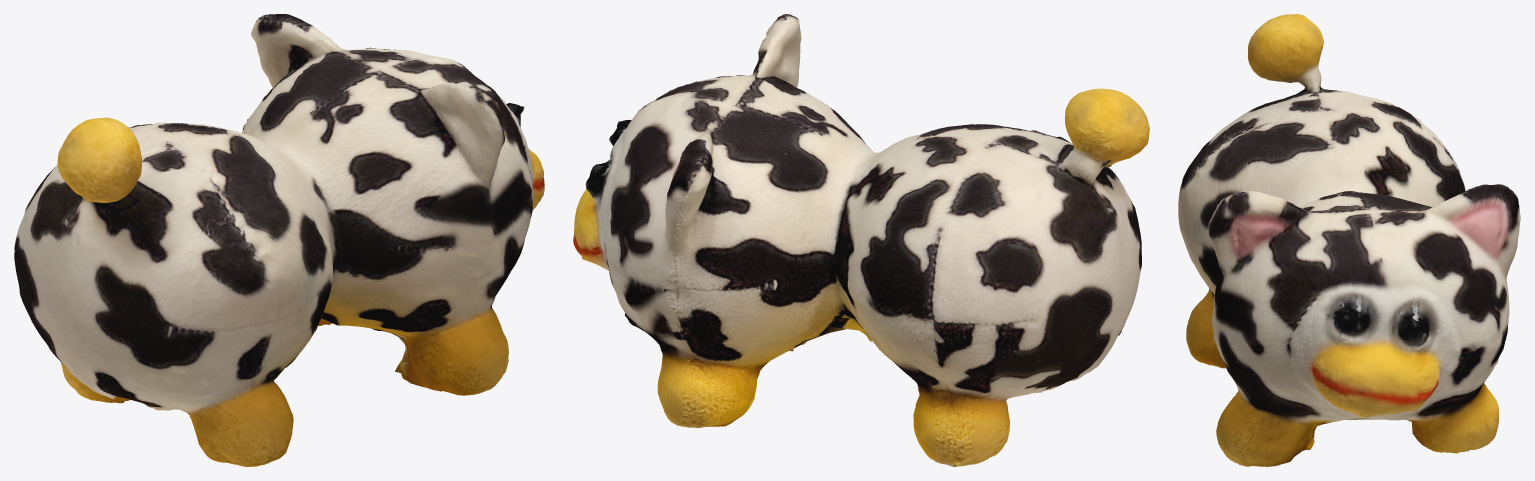
File: Ppp.glb
3 renders of one model, left to right at view 1: azimuth 30°, elevation 25°; view 2: azimuth 150°, elevation 25°; view 3: azimuth 270°, elevation 25°, orthographic. The views are drawn at different scales.
Parts seen in each view (by area): view 1: model_tex_u1_v1_0; view 2: model_tex_u1_v1_0; view 3: model_tex_u1_v1_0.
Part boxes in pixels (x1,y1,x2,y2): model_tex_u1_v1_0: (14,14,544,466); model_tex_u1_v1_0: (573,14,1149,466); model_tex_u1_v1_0: (1178,14,1520,466).
Bounding box in the file's own units: 0.1503 × 0.0921 × 0.0983.
Materials: 1 (1 with a texture image).
